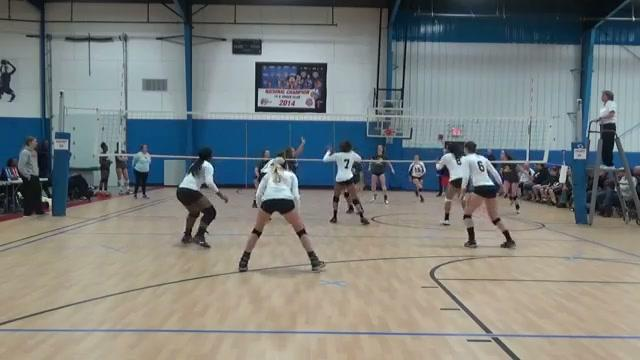ball: (309, 86, 321, 101)
